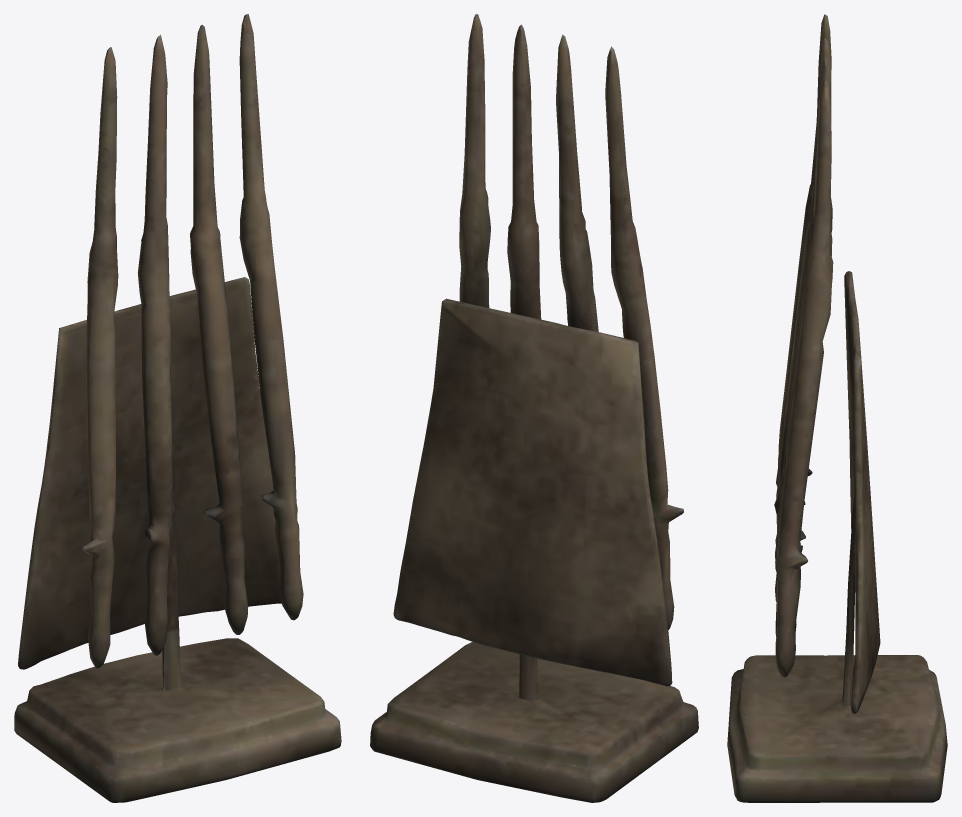
Rendered from simple-wood-weapon-rack-v002.glb.
3 views of the same model, side by side, from view 1: azimuth 30°, elevation 25°; view 2: azimuth 150°, elevation 25°; view 3: azimuth 270°, elevation 25° (orthographic). The views are drawn at different scales.
Parts seen in each view (by area): view 1: simple-wood-weapon-rack; view 2: simple-wood-weapon-rack; view 3: simple-wood-weapon-rack.
Boxes of the visible parts, <box> form: simple-wood-weapon-rack: <box>14,14,341,802</box>; simple-wood-weapon-rack: <box>370,14,698,802</box>; simple-wood-weapon-rack: <box>727,14,947,802</box>.
Size of the model in its own units: 0.6006 by 1.46 by 0.4158.
1 material, 1 textured.
